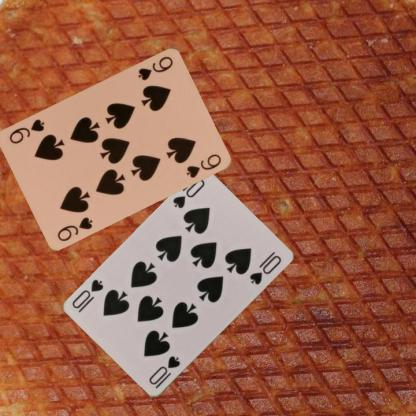10s: (146, 353, 182, 391), (170, 176, 206, 210)
9s: (135, 53, 175, 82), (55, 214, 94, 243)
